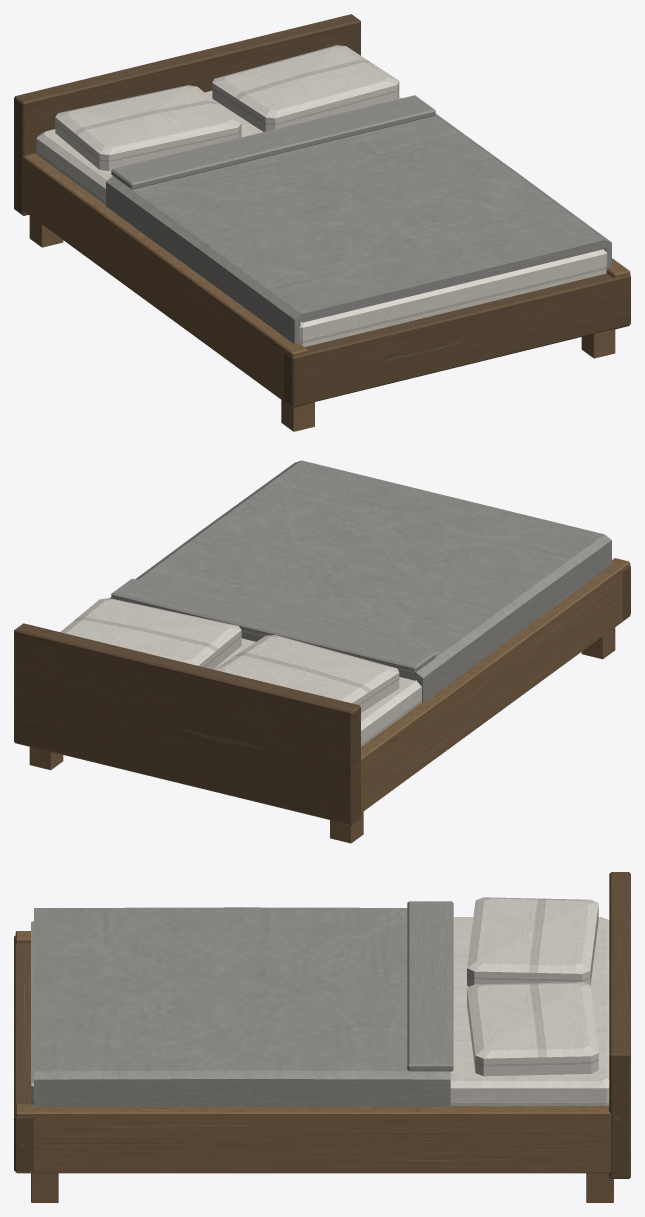
The model's file is bed.glb.
3 renders of one model, top to bottom at view 1: azimuth 30°, elevation 25°; view 2: azimuth 150°, elevation 25°; view 3: azimuth 270°, elevation 25°, orthographic. The views are drawn at different scales.
Visible parts, largest first — view 1: core_bed; view 2: core_bed; view 3: core_bed.
Boxes of the visible parts, left/top/right/bottom form: core_bed: left=14, top=14, right=630, bottom=431; core_bed: left=14, top=460, right=630, bottom=843; core_bed: left=14, top=872, right=630, bottom=1202.
Size of the model in its own units: 1.4 by 0.55 by 2.
1 material, 1 textured.
